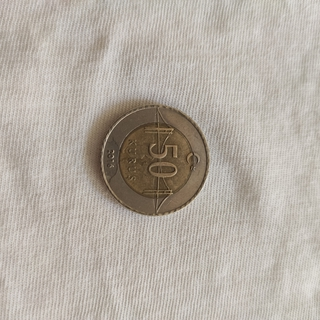50KURUS: (97, 102, 210, 217)
